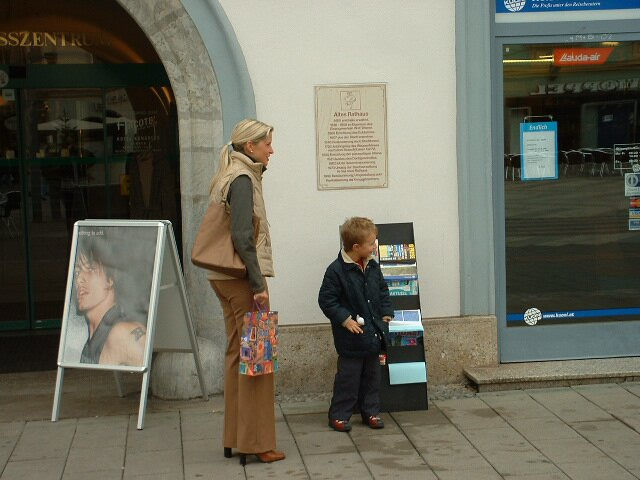person: (192, 115, 306, 464), (313, 213, 397, 438)
